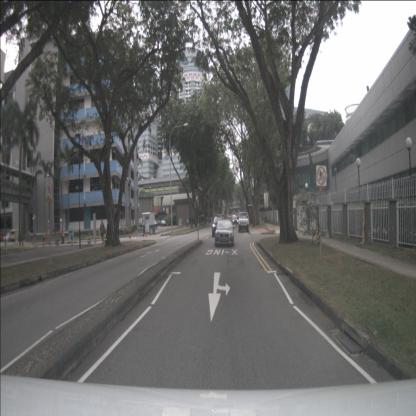human-pedestrian-adult: (100, 218, 105, 244), (106, 218, 111, 242), (187, 218, 189, 228)
movable_object-trafficcone: (145, 230, 148, 237), (129, 231, 131, 239)
vehicle-bicycle: (312, 217, 322, 247)
vehicle-car: (214, 219, 234, 247), (212, 216, 225, 237), (238, 212, 249, 233), (11, 229, 22, 242), (4, 233, 15, 242), (0, 233, 8, 243), (232, 214, 239, 225), (160, 220, 167, 227)
